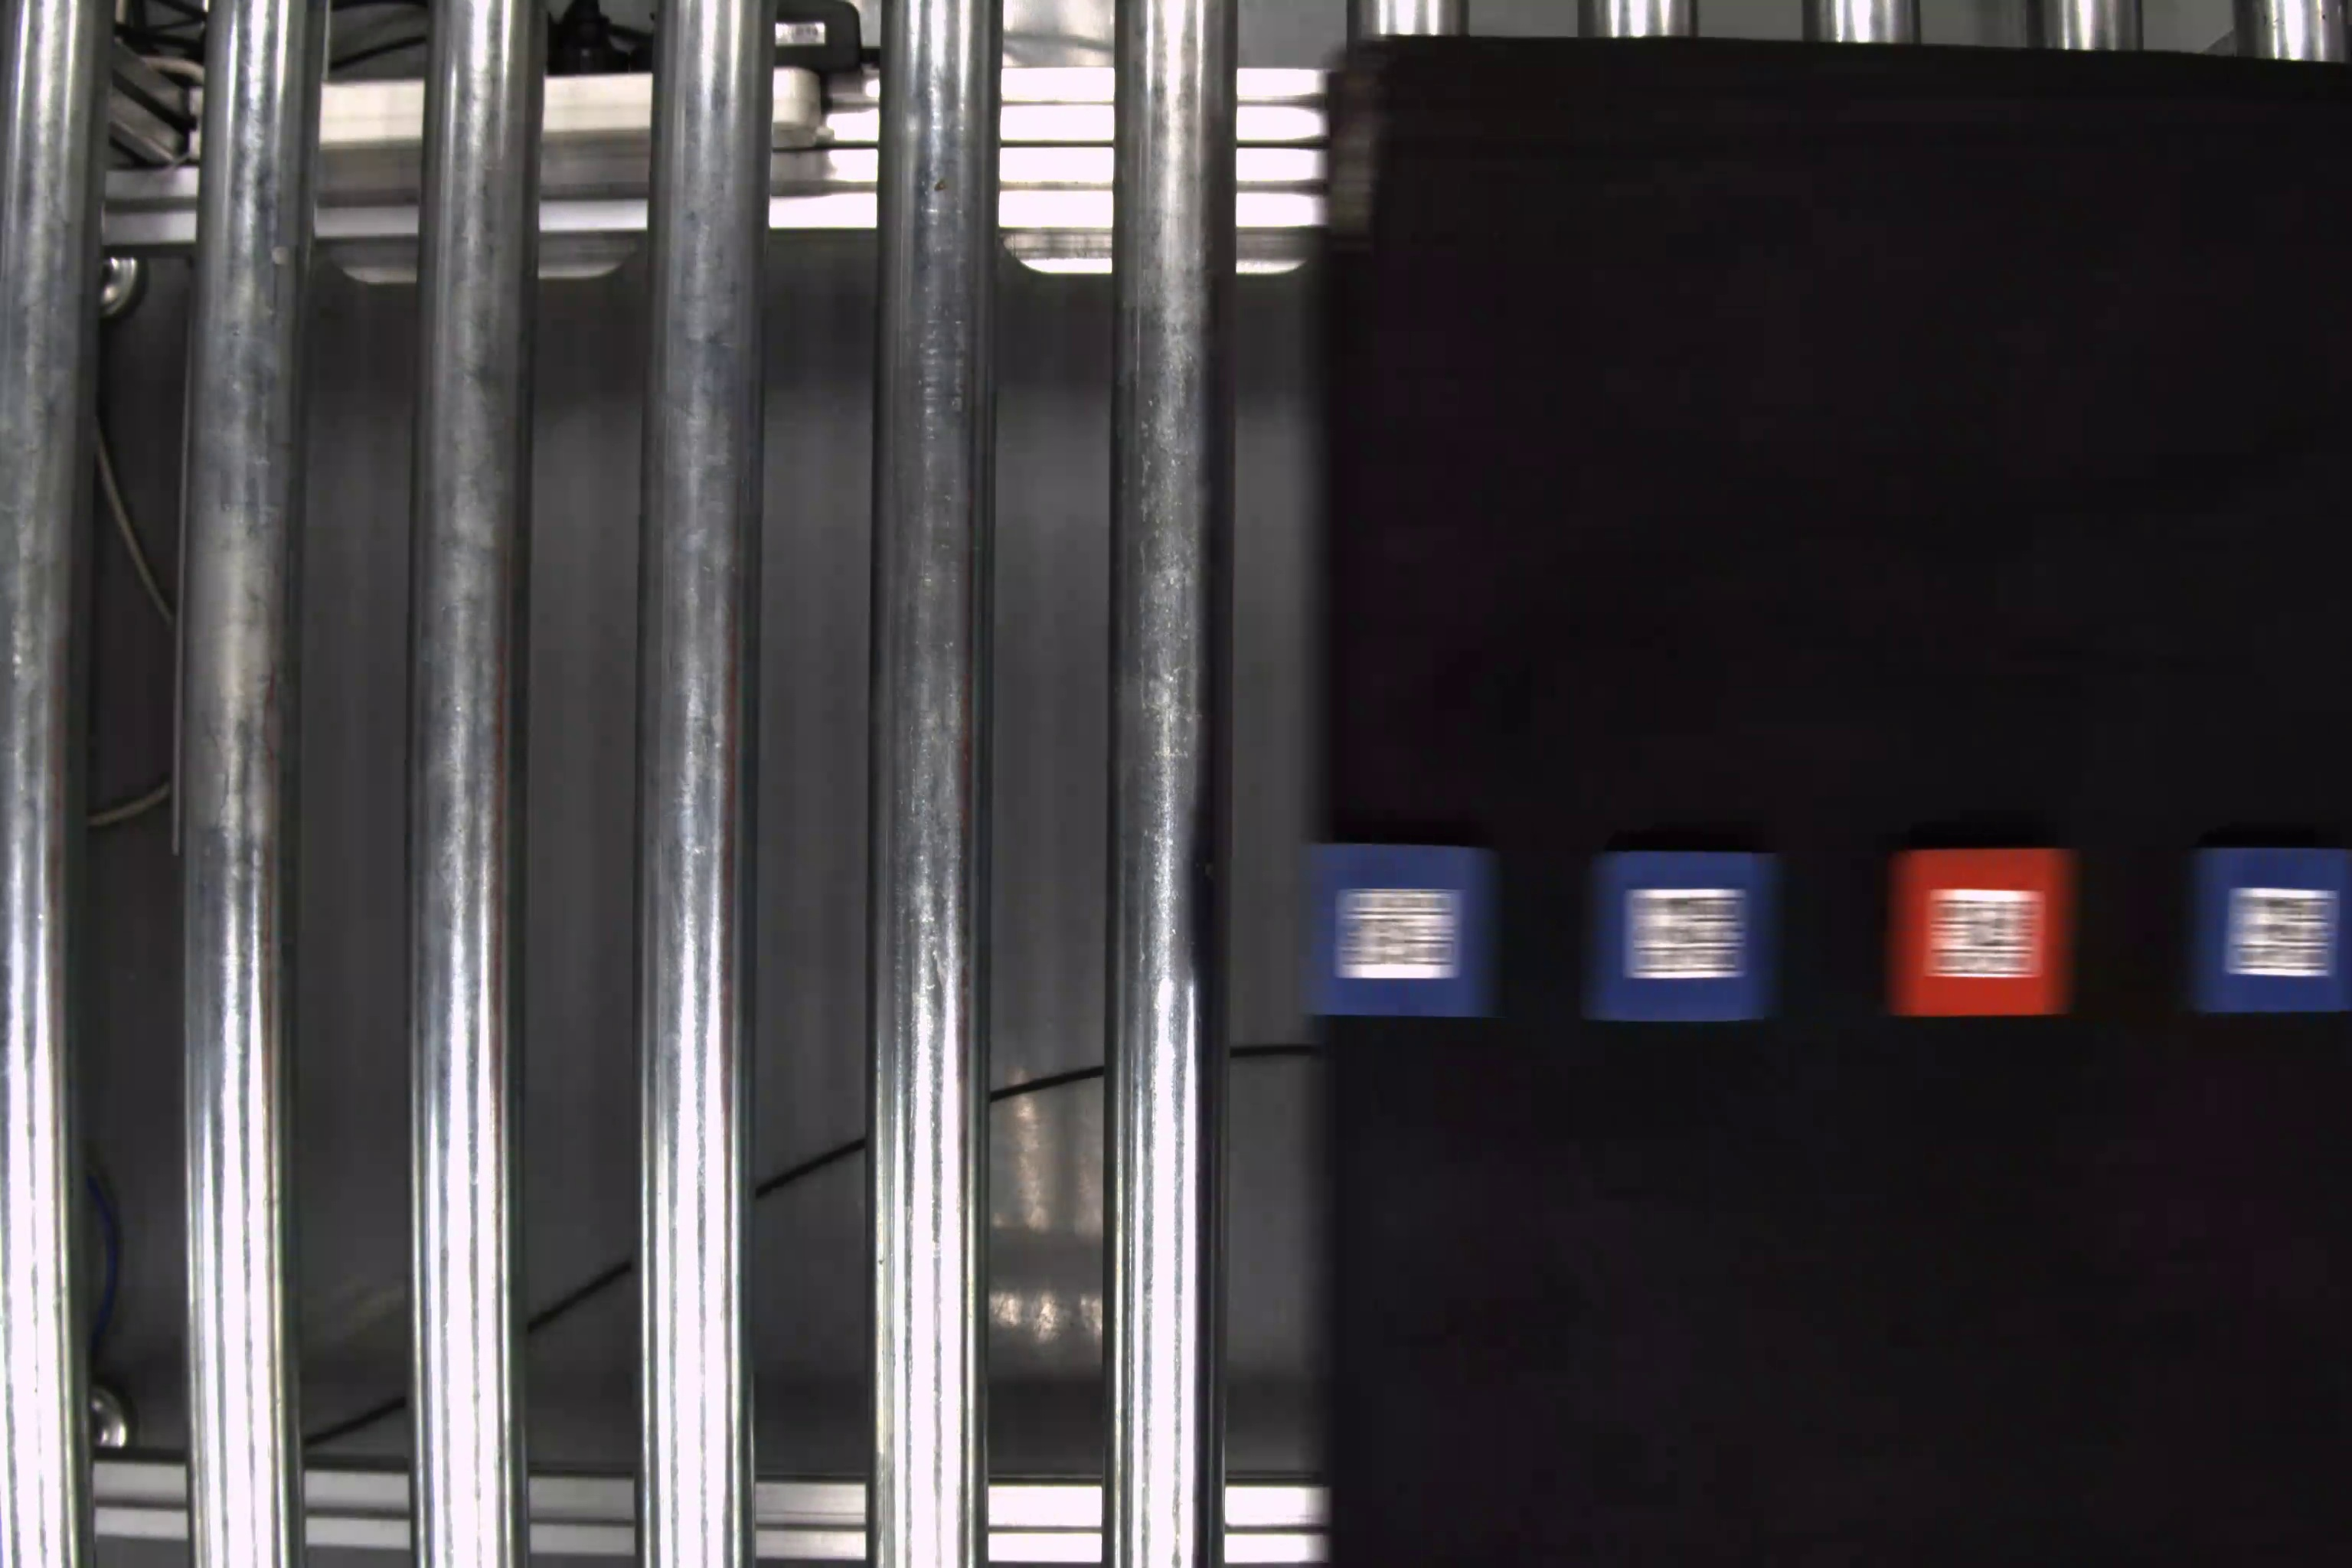wood: (1298, 836, 1503, 1022), (1578, 847, 1781, 1022), (1895, 849, 2079, 1015), (2184, 843, 2352, 1020)
